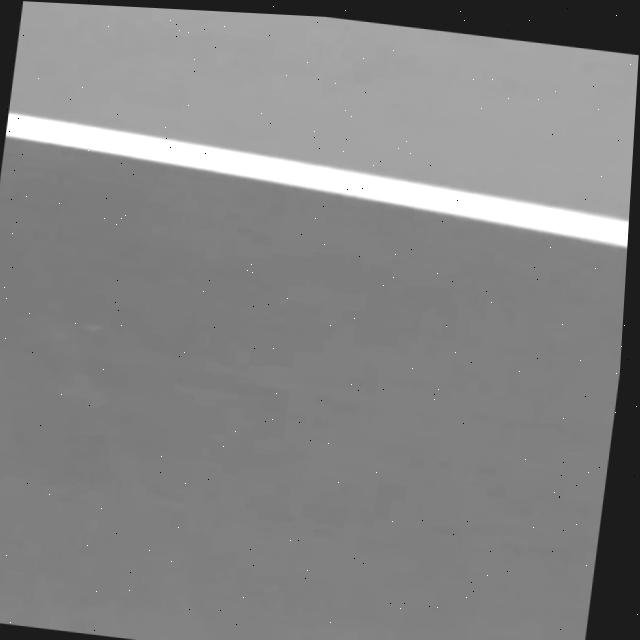left: (4, 111, 629, 248)
